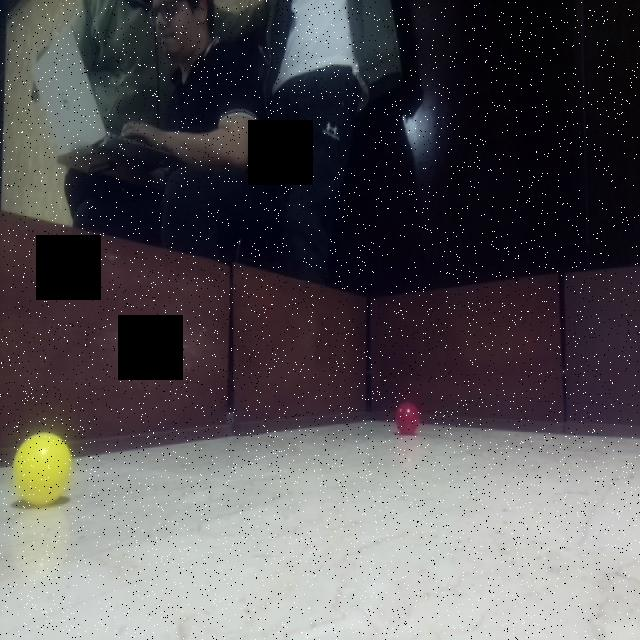ball: (13, 428, 76, 515), (393, 398, 422, 436)
